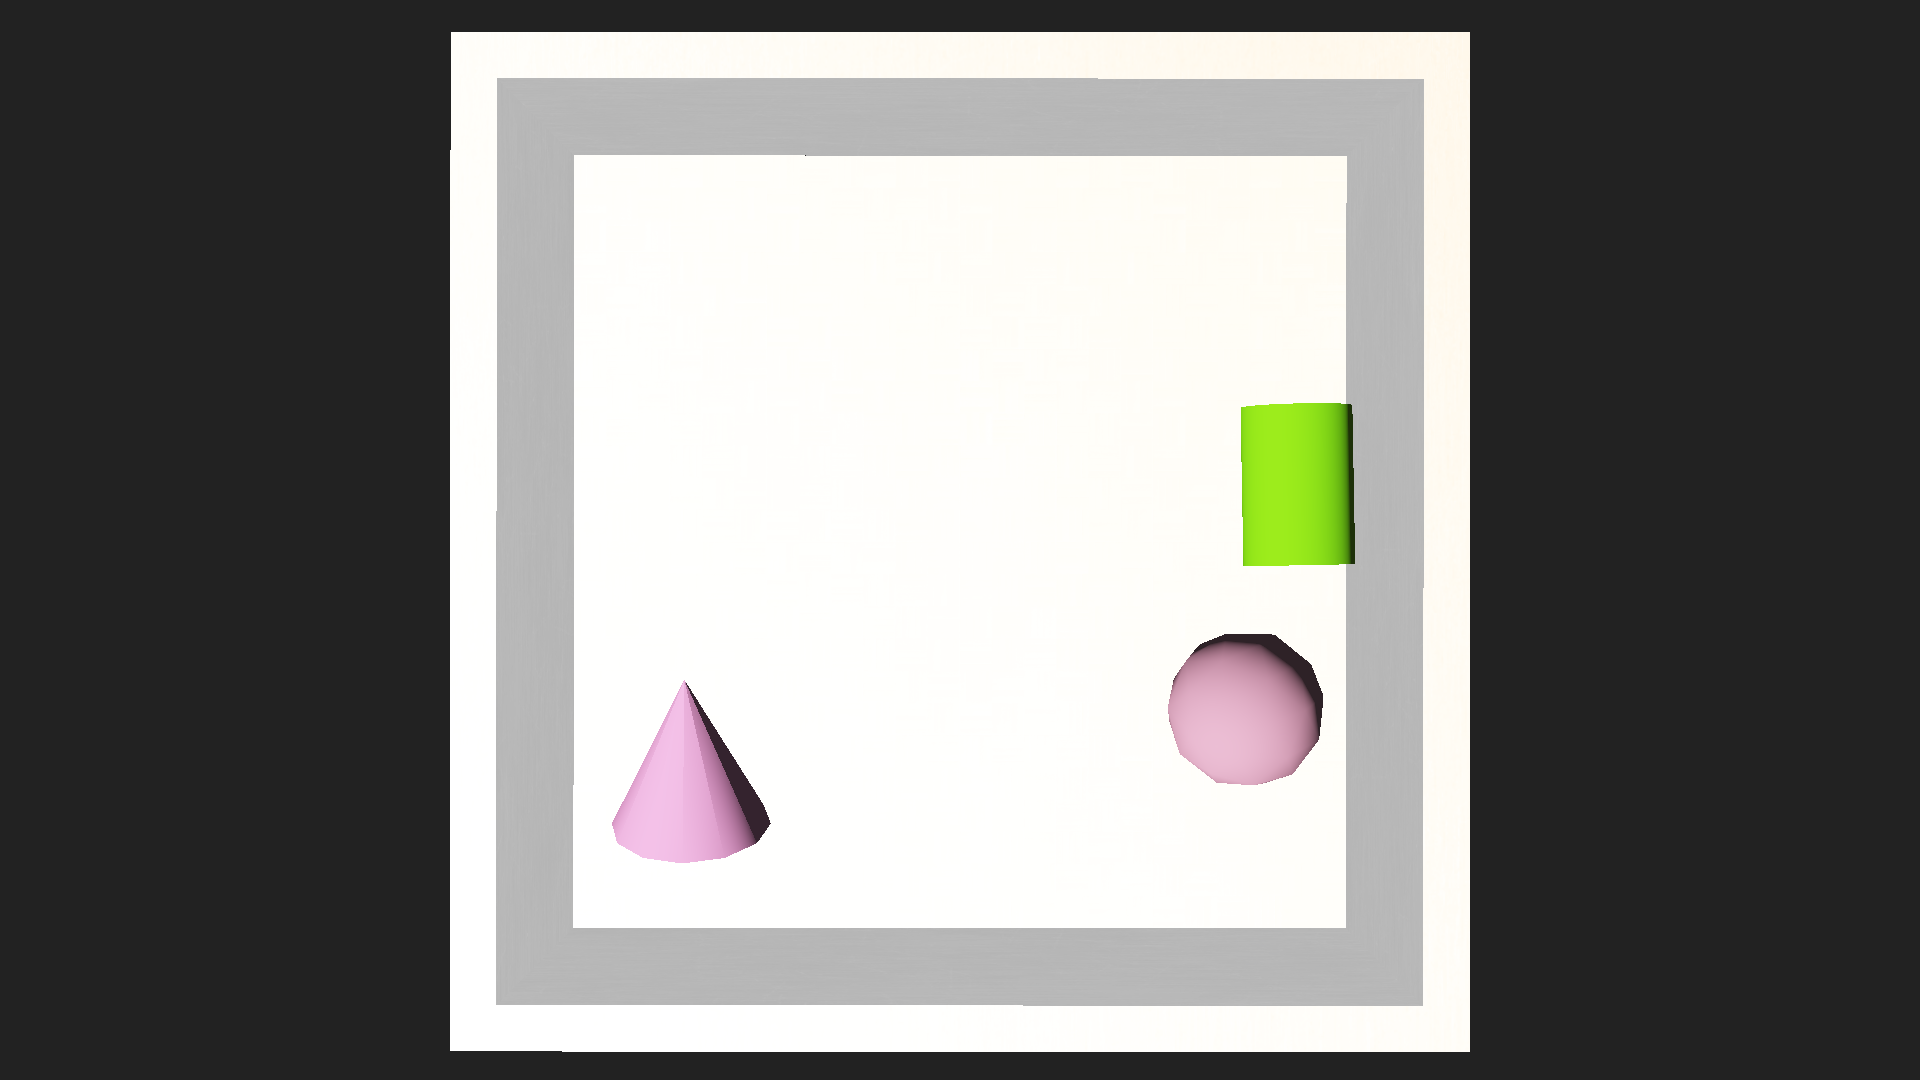cone: (1233, 401, 1364, 564)
cylinder: (600, 645, 767, 866)
sphere: (1166, 628, 1324, 789)
